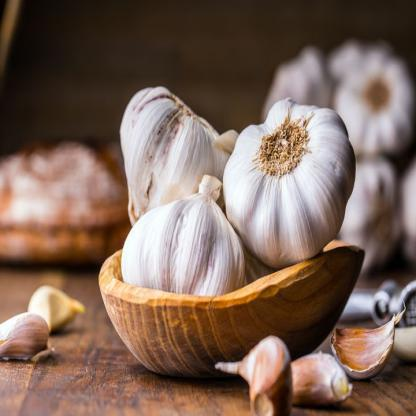garlic: (222, 76, 352, 244), (122, 180, 244, 328), (120, 62, 221, 206), (2, 282, 74, 366), (328, 312, 396, 378), (238, 329, 287, 415), (286, 345, 346, 404)
